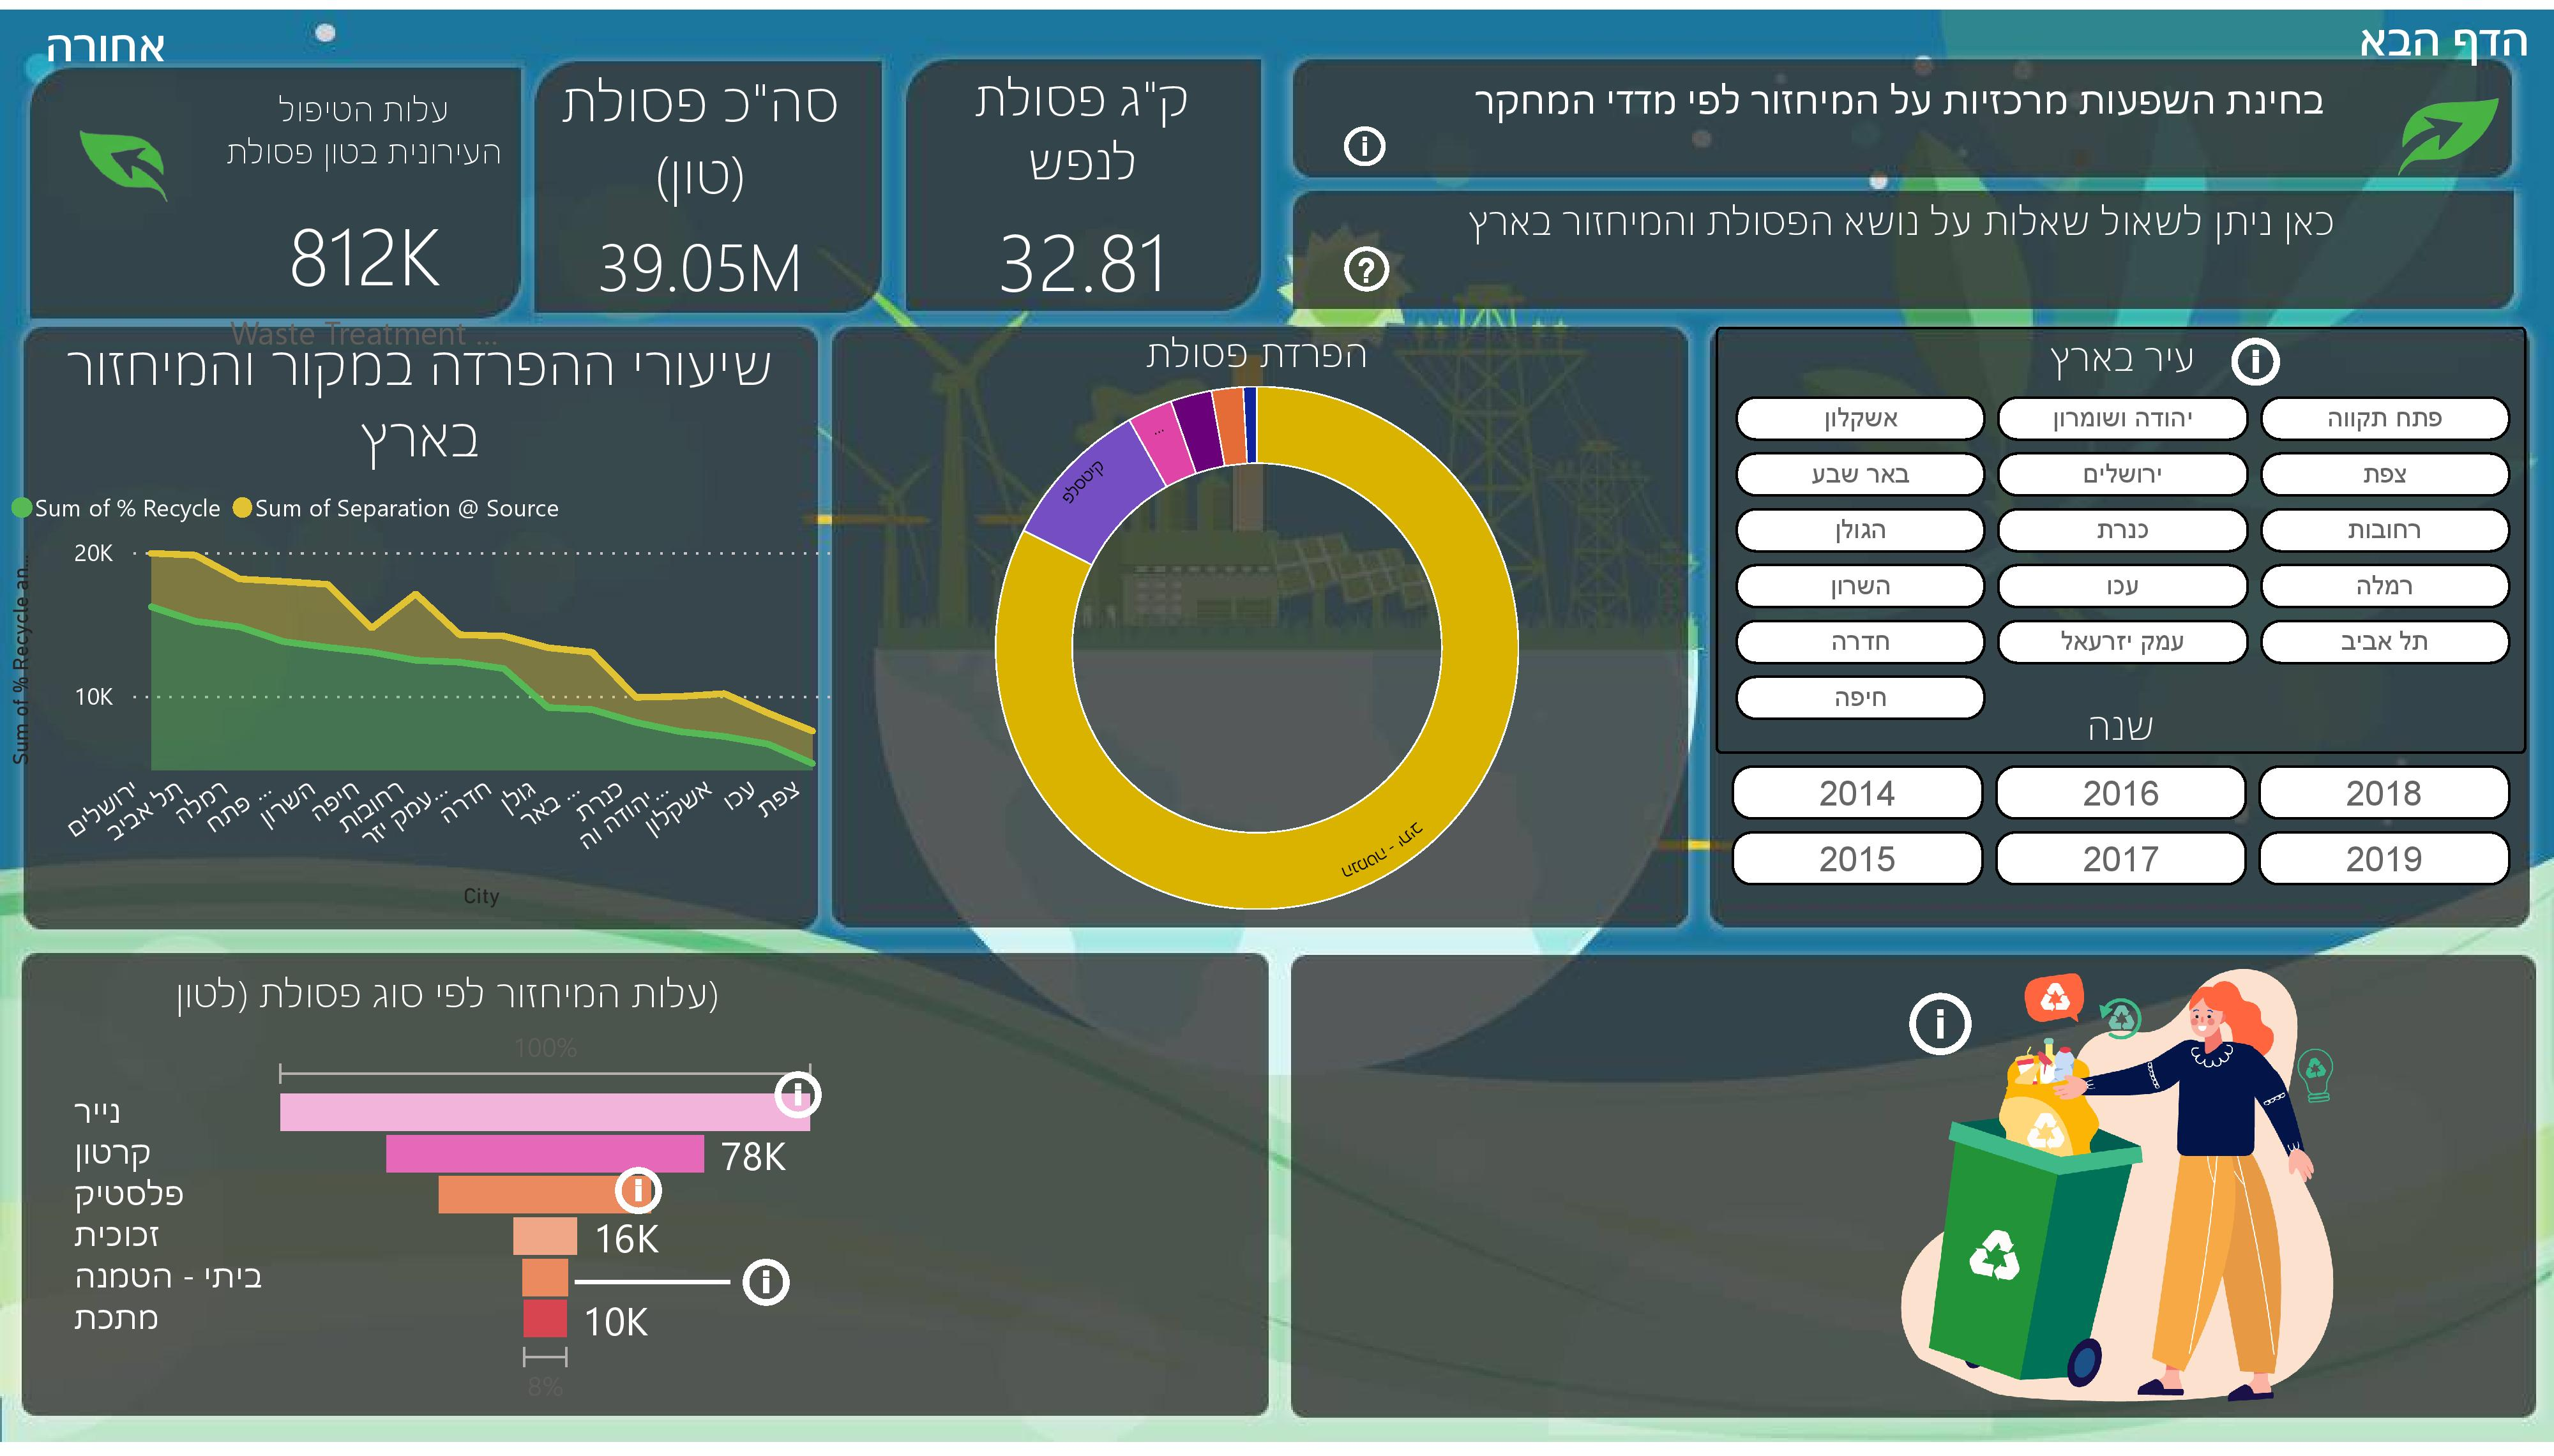

This screenshot's page, from the dashboard's own definition file:
{"tool":"powerbi","page":{"name":"פסולת ומיחזור בישראל","canvas":[1280,720],"ordinal":1},"visuals":[{"type":"Sunburst1445472000808","title":"הפרדת פסולת","fields":{"Values":["Years (Original).Ton total for Separation ID"],"Nodes":["Separation (Original).Separation"]},"box":[421.5,158.8,417.9,296.1],"z":0},{"type":"ChicletSlicer1448559807354","title":"שנה","fields":{"Category":["Years (Original).Years"],"Values":["Cities (Original).Waste Treatment Cost x Count of Ton total for City Name"]},"box":[859.7,346.3,406,117],"z":1000},{"type":"card","title":"סה\"כ פסולת (טון)","fields":{"Values":["Sum(Years (Original).Ton)"]},"box":[259.1,26.6,184.1,132],"z":2000},{"type":"stackedAreaChart","title":"שיעורי ההפרדה במקור והמיחזור בארץ","fields":{"Category":["Recycle - Reuse (New).City"],"Y":["Sum(Recycle - Reuse (New).% Recycle)","Sum(Recycle - Reuse (New).Separation @ Source)"]},"box":[0,158.7,421,296.4],"z":3000},{"type":"card","title":"עלות הטיפול העירונית בטון פסולת","fields":{"Values":["Separation (Original).Waste Treatment Cost x Count of Ton"]},"box":[105.9,38.9,152.8,144.8],"z":4000},{"type":"ChicletSlicer1448559807354","title":"עיר בארץ","fields":{"Category":["Cities (Original).City Name"]},"box":[859.7,158.8,406,213.7],"z":5000},{"type":"card","title":"ק\"ג פסולת לנפש","fields":{"Values":["Sum(טבלת מדדים חברתיים כלכליים.פסולת מוצקה לנפש)"]},"box":[454.1,26.6,176.8,132],"z":6000},{"type":"funnel","title":"עלות המיחזור לפי סוג פסולת (לטון)","fields":{"Category":["Separation (Original).Separation"],"Y":["Separation (Original).Hrs to Recycle 1 Ton x Waste Treatment Cost"]},"box":[32,480,384,224],"z":7000},{"type":"actionButton","box":[656,32,592,48],"z":8000},{"type":"actionButton","title":"בחינת השפעות מרכזיות על המיחזור לפי מדדי המחקר","box":[672,32,560,48],"z":9000},{"type":"actionButton","box":[384,528,32,32],"z":14000},{"type":"actionButton","box":[304,576,32,32],"z":18000},{"type":"actionButton","box":[368.2,622.5,32.1,32.1],"z":22000},{"type":"shape","box":[287.8,630.4,77.6,15.5],"z":23000},{"type":"actionButton","title":"כאן ניתן לשאול שאלות על נושא הפסולת והמיחזור בארץ","box":[672.8,93.1,560,48.5],"z":28000},{"type":"actionButton","box":[1114,158.8,33.4,35.8],"z":31000},{"type":"image","box":[883.1,462.6,361.4,257.6],"z":33000},{"type":"actionButton","box":[952.2,487.6,44.7,40.6],"z":34000},{"type":"image","title":"הדף הבא","box":[1170.1,0,109.9,92.5],"z":38000},{"type":"image","title":"אחורה","box":[0,2.7,105.9,104.5],"z":39001}]}

Visuals, with their boxes in screenshot pixels (x1, y1, x2, y2), scaled from the page's 1280x720 canvas onto the 2554x1456 screenshot:
"הפרדת פסולת" Sunburst1445472000808: 841 321 1675 920
"שנה" ChicletSlicer1448559807354: 1716 700 2525 937
"סה"כ פסולת (טון)" card: 517 54 884 320
"שיעורי ההפרדה במקור והמיחזור בארץ" stackedAreaChart: 0 321 840 920
"עלות הטיפול העירונית בטון פסולת" card: 211 79 516 372
"עיר בארץ" ChicletSlicer1448559807354: 1716 321 2525 753
"ק"ג פסולת לנפש" card: 906 54 1259 320
"עלות המיחזור לפי סוג פסולת (לטון)" funnel: 64 971 830 1423
actionButton: 1309 64 2490 161
"בחינת השפעות מרכזיות על המיחזור לפי מדדי המחקר" actionButton: 1341 64 2458 161
actionButton: 766 1068 830 1132
actionButton: 607 1165 670 1229
actionButton: 735 1259 799 1324
shape: 574 1275 729 1306
"כאן ניתן לשאול שאלות על נושא הפסולת והמיחזור בארץ" actionButton: 1342 188 2460 287
actionButton: 2223 321 2290 394
image: 1762 936 2483 1455
actionButton: 1900 986 1989 1068
"הדף הבא" image: 2335 0 2553 187
"אחורה" image: 0 6 211 217
